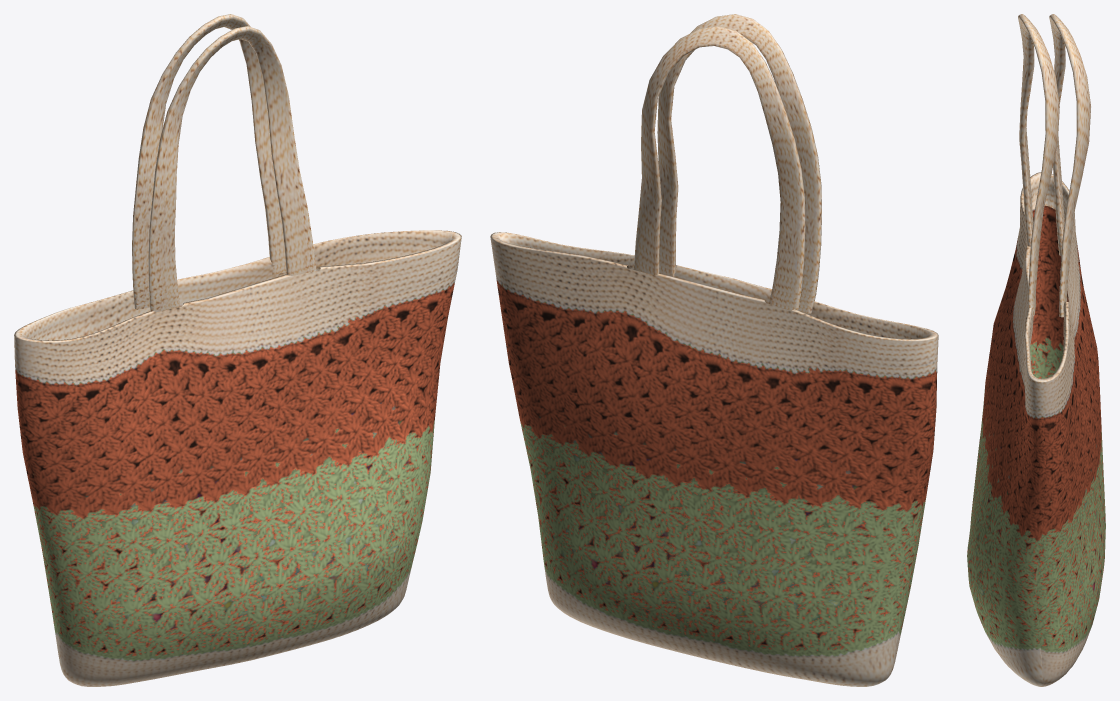
The model's file is bolsa2verdeterracota.glb.
3 views of the same model, side by side, from view 1: azimuth 30°, elevation 25°; view 2: azimuth 150°, elevation 25°; view 3: azimuth 270°, elevation 25° (orthographic). The views are drawn at different scales.
Parts seen in each view (by area): view 1: polySurface1, polySurface2, polySurface4; view 2: polySurface1, polySurface4, polySurface2; view 3: polySurface1, polySurface2, polySurface4.
Boxes of the visible parts, bbox=[...] form: polySurface1: bbox=[14, 230, 461, 686]; polySurface2: bbox=[148, 26, 316, 312]; polySurface4: bbox=[132, 14, 286, 309]; polySurface1: bbox=[490, 232, 938, 686]; polySurface4: bbox=[633, 26, 805, 310]; polySurface2: bbox=[657, 14, 821, 313]; polySurface1: bbox=[967, 172, 1105, 686]; polySurface2: bbox=[1018, 14, 1059, 315]; polySurface4: bbox=[1049, 14, 1090, 317].
Size of the model in its own units: 24.14 by 32.94 by 6.88.
1 material, 1 textured.
